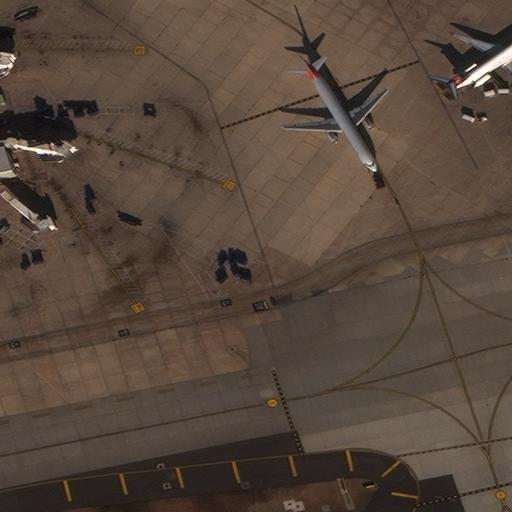Medium Civil Transport: (286, 56, 389, 172), (447, 24, 511, 98)
